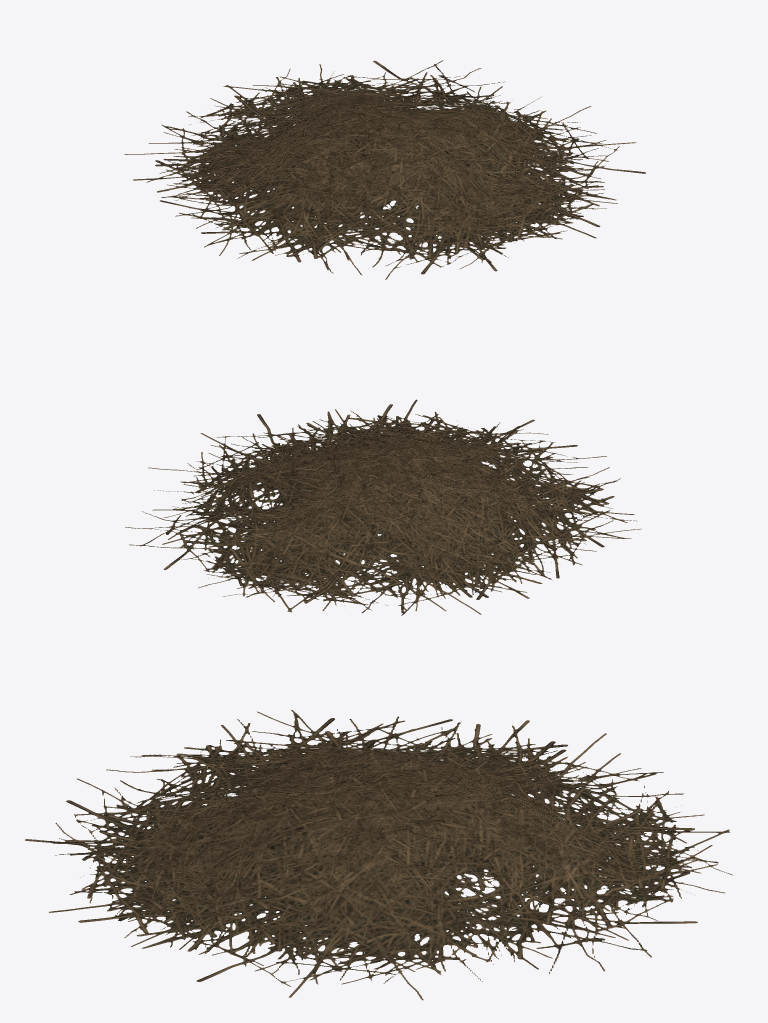
Rendered from hayStack.fbx.
3 renders of one model, top to bottom at view 1: azimuth 30°, elevation 25°; view 2: azimuth 150°, elevation 25°; view 3: azimuth 270°, elevation 25°, orthographic. The views are drawn at different scales.
Parts seen in each view (by area): view 1: hayStack; view 2: hayStack; view 3: hayStack.
Boxes of the visible parts, left/top/right/bottom form: hayStack: left=124, top=60, right=645, bottom=279; hayStack: left=125, top=399, right=641, bottom=615; hayStack: left=25, top=710, right=732, bottom=1000.
Size of the model in its own units: 3.5 by 0.3337 by 3.5.
